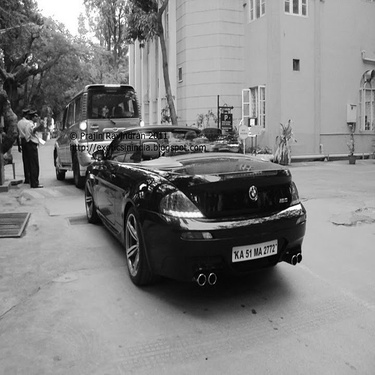car: (62, 116, 318, 304), (46, 77, 150, 183)
